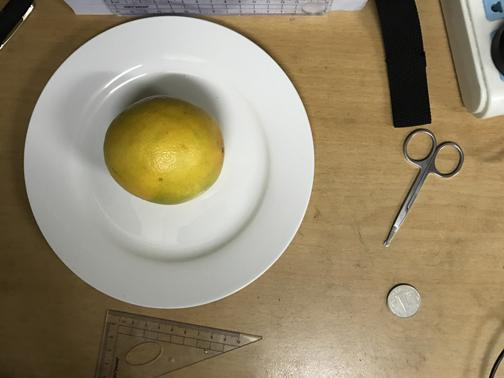coin: (388, 281, 421, 316)
orange: (100, 99, 225, 204)
